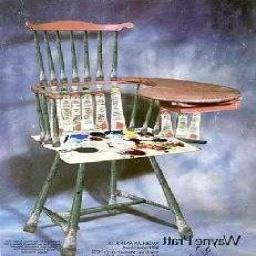Chair: (27, 22, 244, 256)
